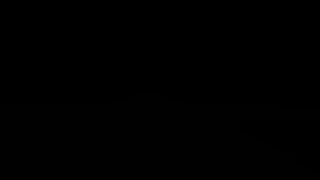go_ahead: (235, 12, 277, 49)
